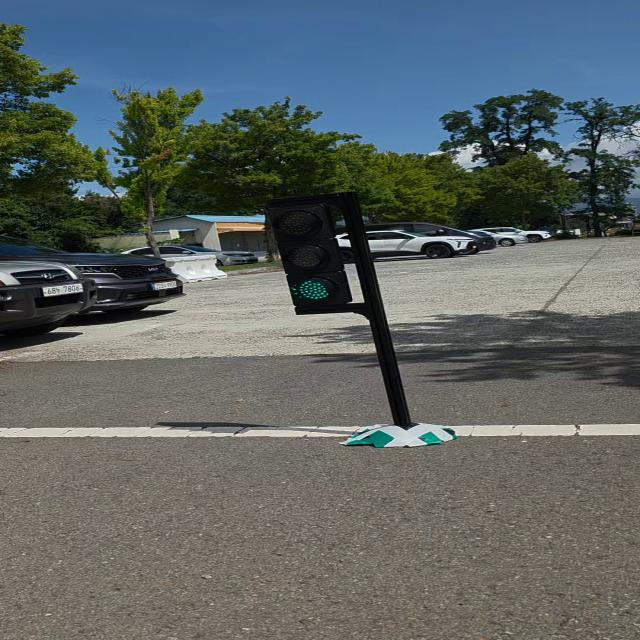green: (265, 194, 365, 313)
